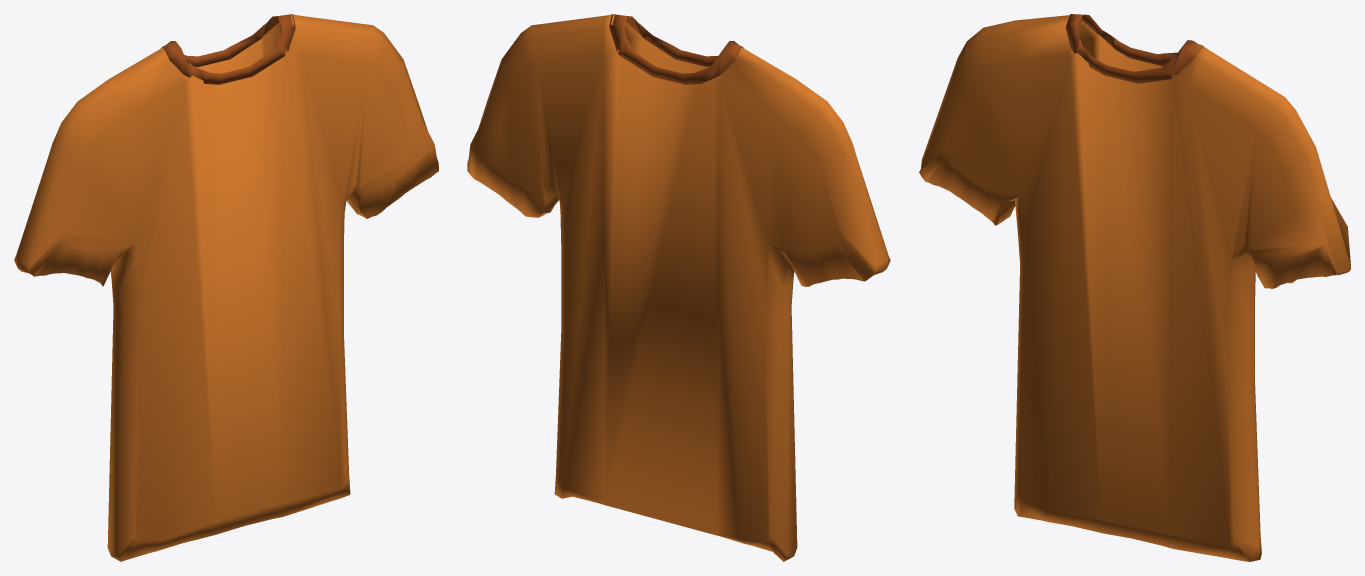
Rendered from orange.dae.
3 renders of one model, left to right at view 1: azimuth 30°, elevation 25°; view 2: azimuth 150°, elevation 25°; view 3: azimuth 330°, elevation 25°, orthographic. The views are drawn at different scales.
Parts seen in each view (by area): view 1: Group_1_001, Group_2_001; view 2: Group_1_001, Group_2_001; view 3: Group_1_001, Group_2_001.
Part boxes in pixels (x1,y1,x2,y2): Group_1_001: (14, 14, 438, 561); Group_2_001: (160, 14, 295, 84); Group_1_001: (467, 14, 890, 561); Group_2_001: (609, 14, 743, 84); Group_1_001: (919, 15, 1350, 561); Group_2_001: (1066, 14, 1203, 83).
Bounding box in the file's own units: 2.35 × 0.2281 × 2.68.
